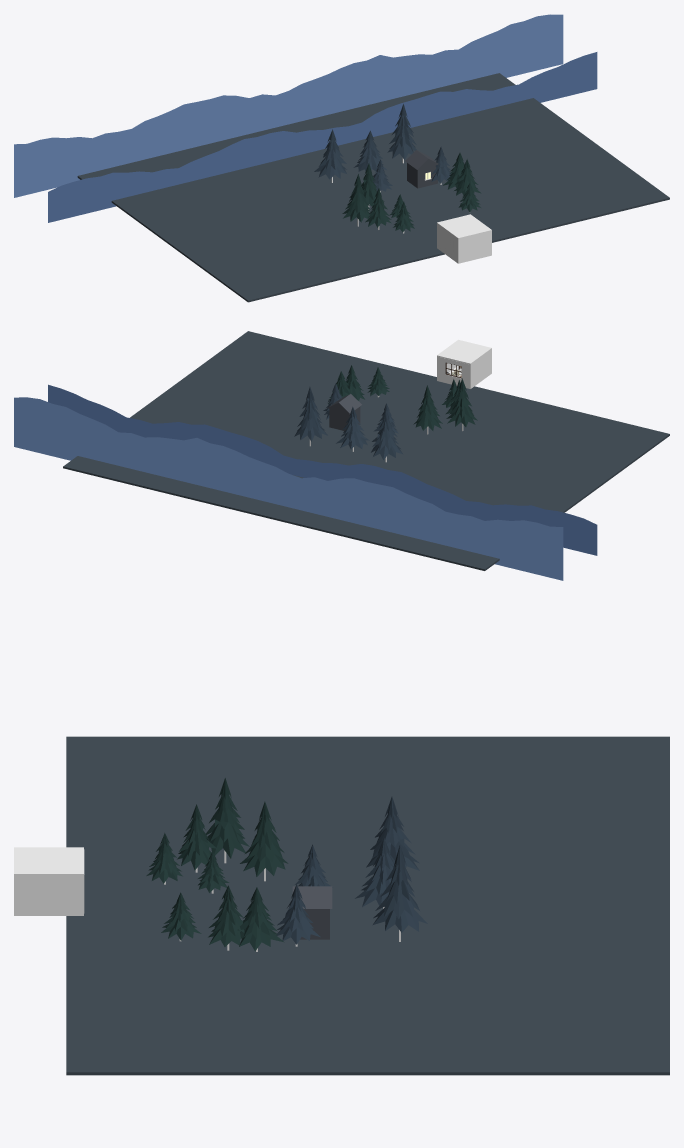
Rendered from gardenos-v03.glb.
3 renders of one model, top to bottom at view 1: azimuth 30°, elevation 25°; view 2: azimuth 150°, elevation 25°; view 3: azimuth 270°, elevation 25°, orthographic. The views are drawn at different scales.
Parts seen in each view (by area): view 1: SM_Exterior_Ground, Dusk | wooded horizon.001, Dusk | wooded horizon, SM_Wall_South, SM_Room_Ceiling, SM_Wall_West, SM_Distant_Shed_Body; view 2: SM_Exterior_Ground, Dusk | wooded horizon.001, Dusk | wooded horizon, SM_Room_Ceiling, SM_Wall_West, SM_Distant_Shed_Body; view 3: SM_Exterior_Ground, SM_Wall_East, SM_Room_Ceiling.
Part boxes in pixels (left/top/right/bottom): SM_Exterior_Ground: left=77, top=73, right=669, bottom=302; Dusk | wooded horizon.001: left=14, top=14, right=563, bottom=197; Dusk | wooded horizon: left=48, top=52, right=597, bottom=222; SM_Wall_South: left=458, top=231, right=491, bottom=262; SM_Room_Ceiling: left=437, top=214, right=491, bottom=238; SM_Wall_West: left=437, top=224, right=458, bottom=262; SM_Distant_Shed_Body: left=407, top=163, right=437, bottom=188; SM_Exterior_Ground: left=63, top=331, right=669, bottom=570; Dusk | wooded horizon.001: left=14, top=397, right=563, bottom=580; Dusk | wooded horizon: left=48, top=384, right=597, bottom=555; SM_Room_Ceiling: left=437, top=339, right=491, bottom=364; SM_Wall_West: left=469, top=349, right=491, bottom=388; SM_Distant_Shed_Body: left=329, top=406, right=360, bottom=430; SM_Exterior_Ground: left=66, top=736, right=669, bottom=1075; SM_Wall_East: left=15, top=875, right=83, bottom=914; SM_Room_Ceiling: left=14, top=847, right=83, bottom=875.
Bounding box in the file's own units: 65.1 × 7.51 × 41.3.
Materials: 65 (9 with a texture image).
